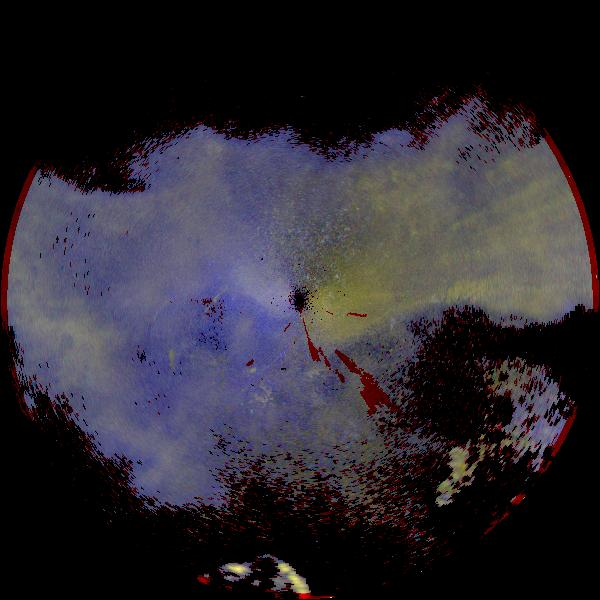roost: (150, 338, 189, 377)
